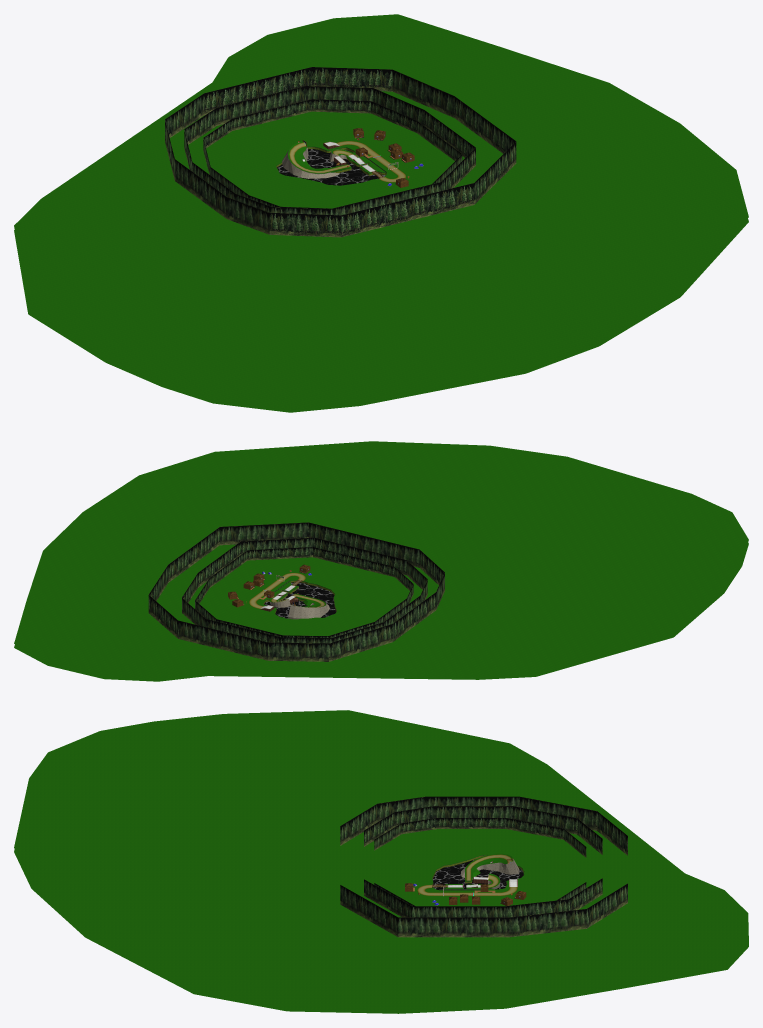
The picture shows the model from 3 angles, top to bottom: view 1: azimuth 30°, elevation 25°; view 2: azimuth 150°, elevation 25°; view 3: azimuth 270°, elevation 25°; orthographic projection. The views are drawn at different scales.
Visible parts, largest first — view 1: lhi-SKP--Grass.001, lhi-SKP--trees.001, lhi-SKP--water.001, lhi-SKP--DirtRoad.001; view 2: lhi-SKP--Grass.001, lhi-SKP--trees.001, lhi-SKP--water.001, lhi-SKP--GrassWall.001, lhi-SKP--DirtRoad.001; view 3: lhi-SKP--Grass.001, lhi-SKP--trees.001, lhi-SKP--water.001, lhi-SKP--DirtRoad.001.
Boxes of the visible parts, bbox=[...] form: lhi-SKP--Grass.001: bbox=[14, 14, 748, 412]; lhi-SKP--trees.001: bbox=[165, 67, 516, 237]; lhi-SKP--water.001: bbox=[277, 149, 385, 185]; lhi-SKP--DirtRoad.001: bbox=[289, 141, 406, 182]; lhi-SKP--Grass.001: bbox=[14, 441, 748, 681]; lhi-SKP--trees.001: bbox=[148, 522, 444, 661]; lhi-SKP--water.001: bbox=[264, 582, 336, 618]; lhi-SKP--GrassWall.001: bbox=[270, 599, 329, 619]; lhi-SKP--DirtRoad.001: bbox=[249, 572, 325, 608]; lhi-SKP--Grass.001: bbox=[14, 710, 748, 1013]; lhi-SKP--trees.001: bbox=[340, 796, 627, 937]; lhi-SKP--water.001: bbox=[432, 859, 523, 889]; lhi-SKP--DirtRoad.001: bbox=[417, 854, 517, 895].
Bounding box in the file's own units: 510415 × 27865 × 529632.
30 materials, 29 textured.
